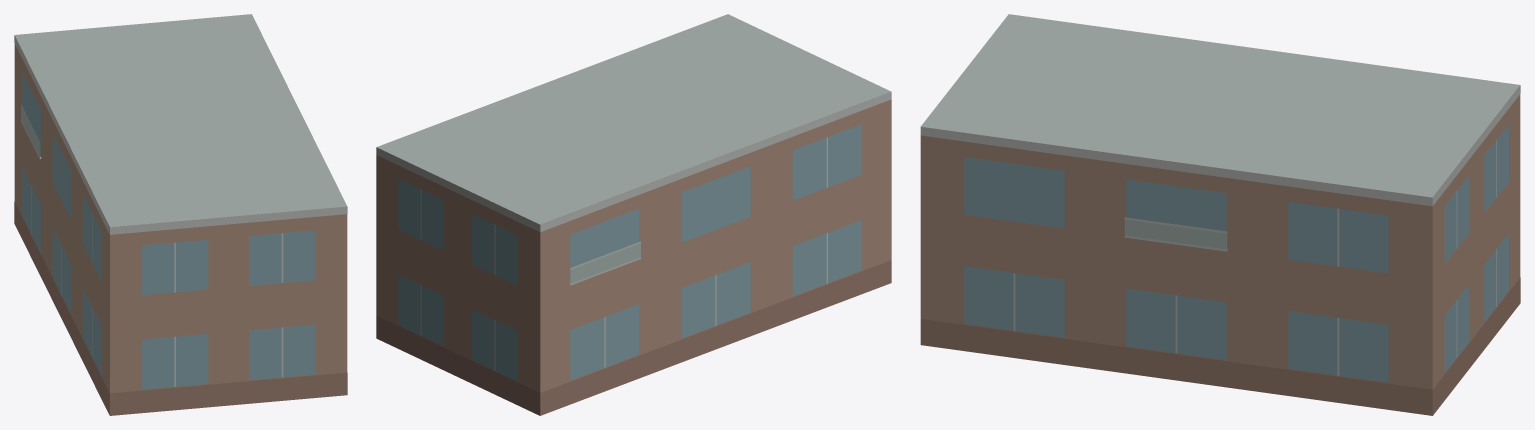
File: survey-upis-32808519.glb
The picture shows the model from 3 angles, left to right: view 1: azimuth 30°, elevation 25°; view 2: azimuth 150°, elevation 25°; view 3: azimuth 270°, elevation 25°; orthographic projection. The views are drawn at different scales.
Visible parts, largest first — view 1: survey-upis-32808519.tmp; view 2: survey-upis-32808519.tmp; view 3: survey-upis-32808519.tmp.
Boxes of the visible parts, x1,y1,x2,y2 form: survey-upis-32808519.tmp: (14, 14, 347, 415); survey-upis-32808519.tmp: (376, 14, 891, 415); survey-upis-32808519.tmp: (920, 14, 1520, 415).
Size of the model in its own units: 11.01 by 6.1 by 15.21.
